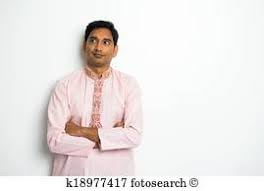Indian_Male: (83, 19, 124, 67)
